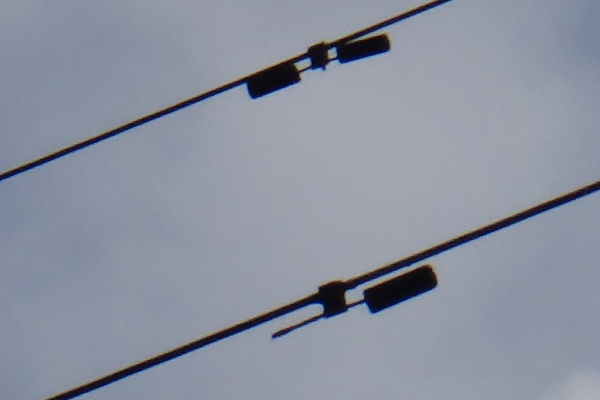damper: (240, 27, 394, 102)
damper_defect: (263, 256, 442, 343)
